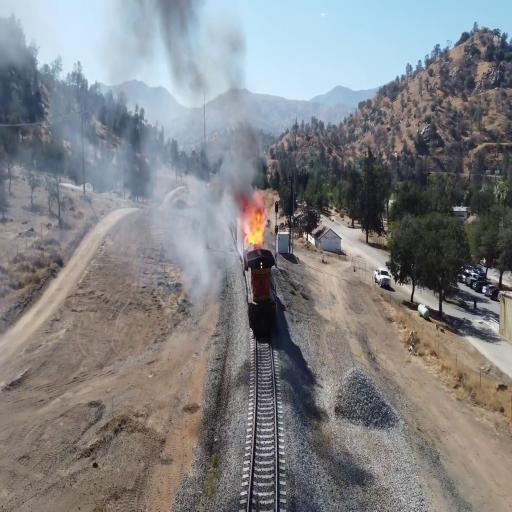fire: (240, 196, 267, 245)
